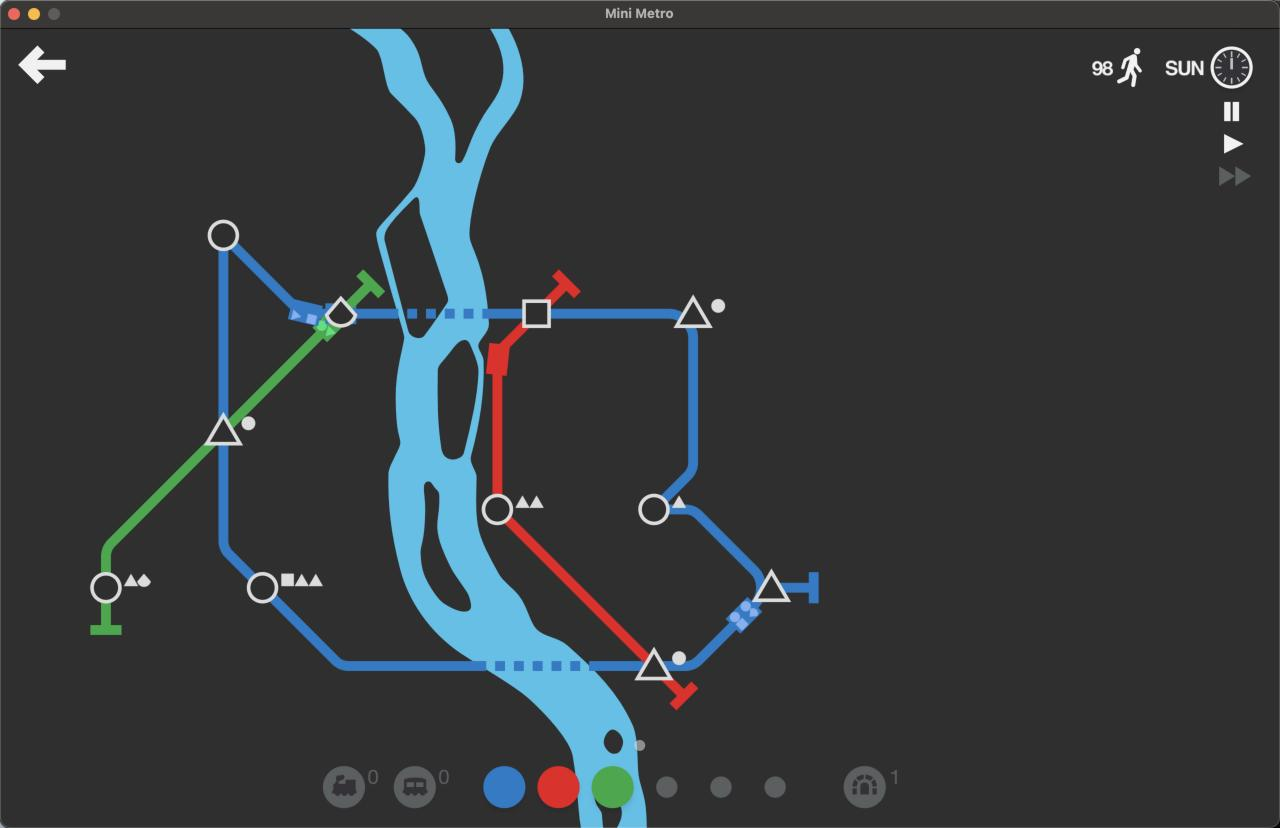CIRCLE: (638, 492, 671, 526), (481, 493, 514, 527), (246, 571, 279, 605), (207, 219, 240, 253), (90, 571, 123, 604)
SQUARE: (521, 298, 551, 329)
TRIANGLE: (203, 411, 246, 448), (751, 567, 792, 604), (672, 293, 714, 329), (634, 646, 675, 682)
WEDGE: (323, 295, 357, 328)
